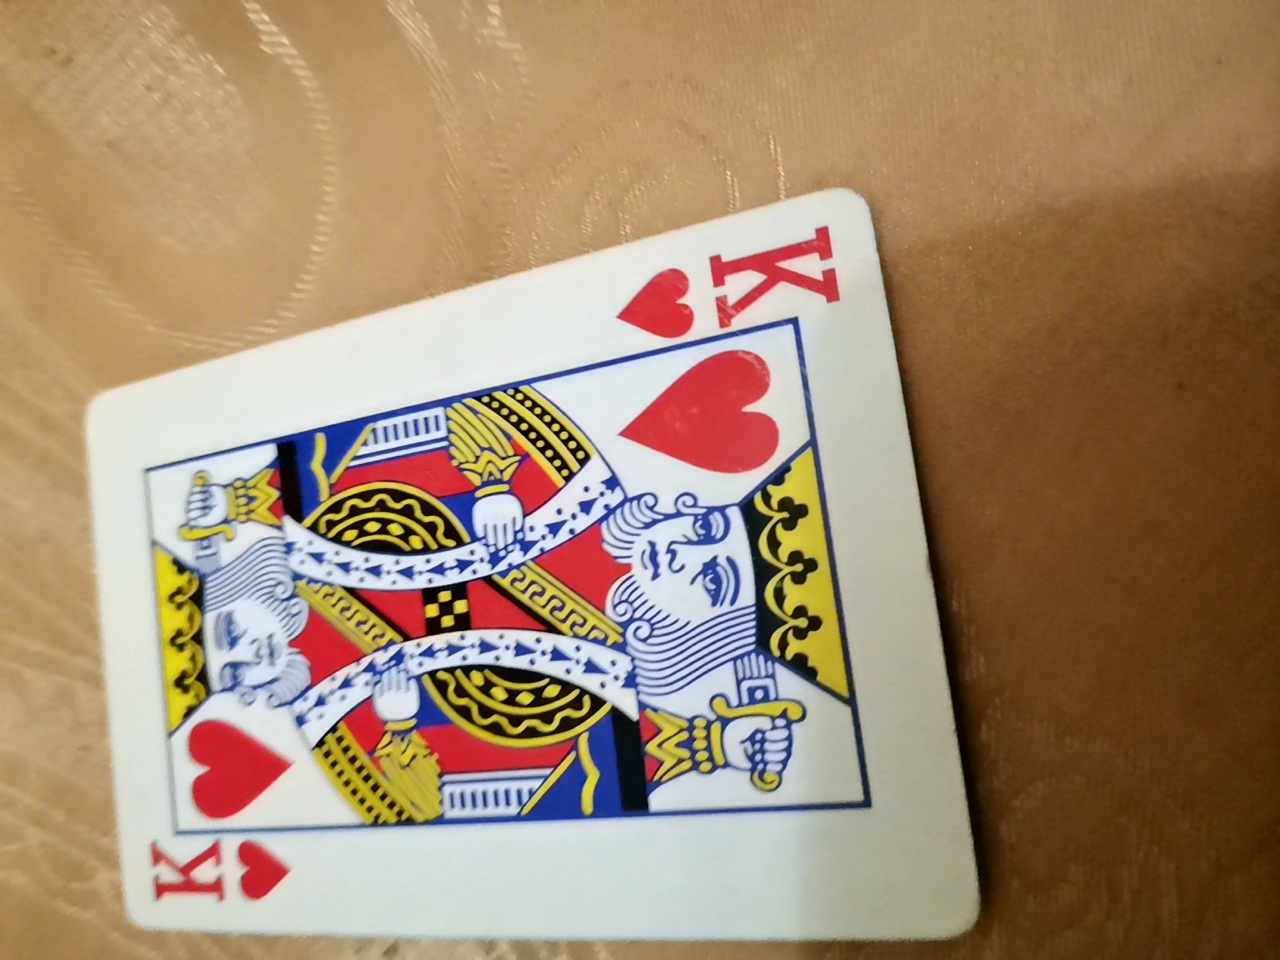hx k: (96, 184, 963, 925)
